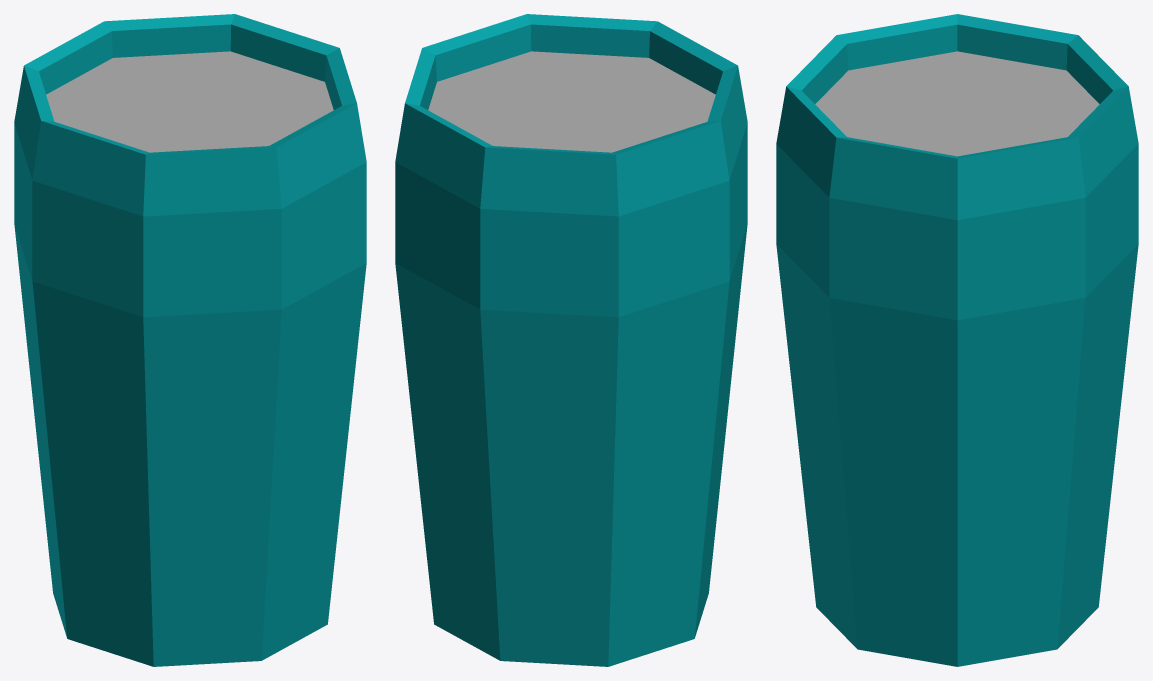
The model's file is Glass1.fbx.
The picture shows the model from 3 angles, left to right: view 1: azimuth 30°, elevation 25°; view 2: azimuth 150°, elevation 25°; view 3: azimuth 270°, elevation 25°; orthographic projection.
Parts seen in each view (by area): view 1: Glass1, LiquidFull; view 2: Glass1, LiquidFull; view 3: Glass1, LiquidFull.
Boxes of the visible parts, x1,y1,x2,y2 form: Glass1: [14, 14, 366, 666]; LiquidFull: [46, 51, 333, 152]; Glass1: [395, 14, 747, 666]; LiquidFull: [428, 51, 715, 152]; Glass1: [776, 14, 1138, 666]; LiquidFull: [815, 51, 1099, 156].
Bounding box in the file's own units: 0.2 × 0.3172 × 0.2.
